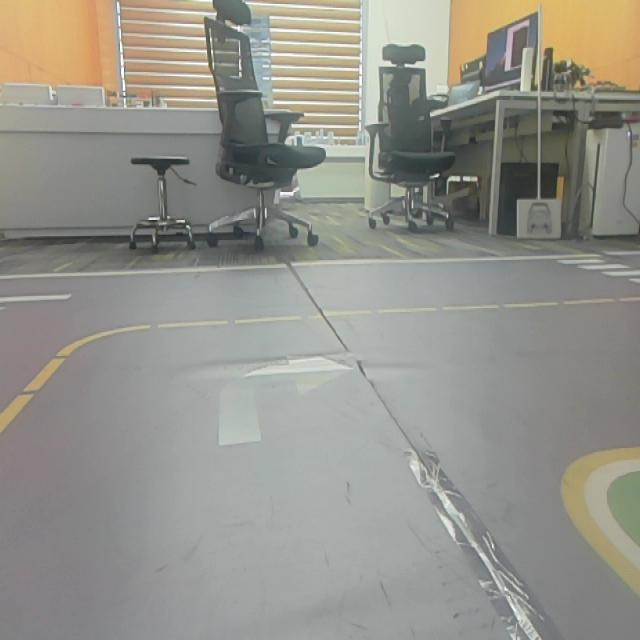left_lane: (0, 345, 80, 440)
right_lane: (562, 471, 640, 595)
